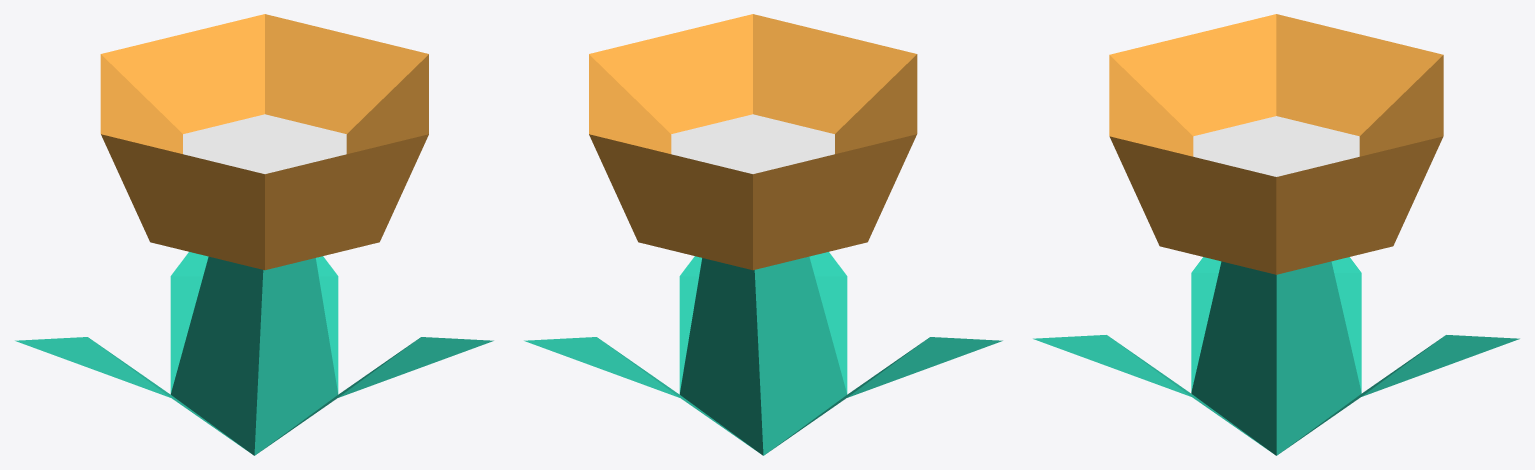
Rendered from flower-yellow-c.glb.
The picture shows the model from 3 angles, left to right: view 1: azimuth 30°, elevation 25°; view 2: azimuth 150°, elevation 25°; view 3: azimuth 270°, elevation 25°; orthographic projection.
Visible parts, largest first — view 1: flower_yellowC; view 2: flower_yellowC; view 3: flower_yellowC.
Part boxes in pixels (x1=…): flower_yellowC: x1=15, y1=14, x2=493, y2=455; flower_yellowC: x1=524, y1=14, x2=1002, y2=455; flower_yellowC: x1=1033, y1=14, x2=1519, y2=455.
Bounding box in the file's own units: 0.1806 × 0.1325 × 0.1811.
